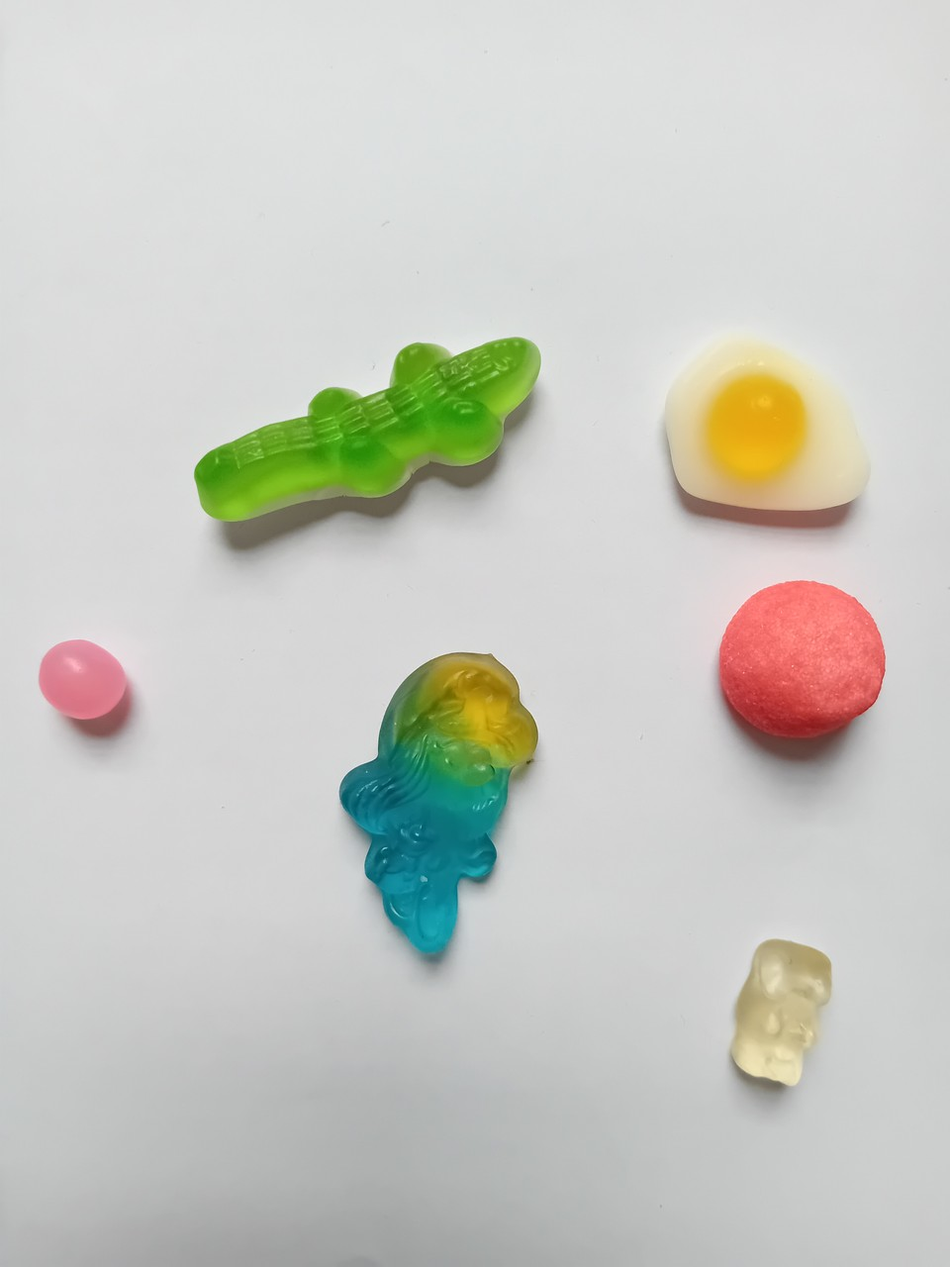crocodile_vert: (180, 329, 543, 531)
dragibus_rose: (32, 637, 126, 722)
oeuf_oeuf: (655, 329, 876, 513)
ourson_blanc: (720, 936, 840, 1087)
schtroumpf_bleu-jaune: (327, 644, 542, 968)
tagada_fraise: (711, 578, 894, 745)
